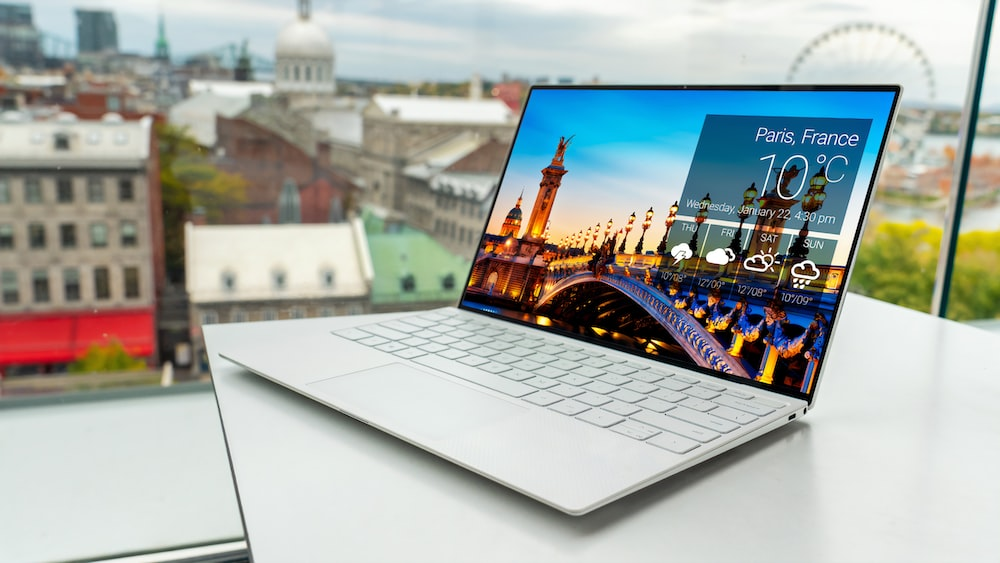laptop: (219, 82, 909, 522)
